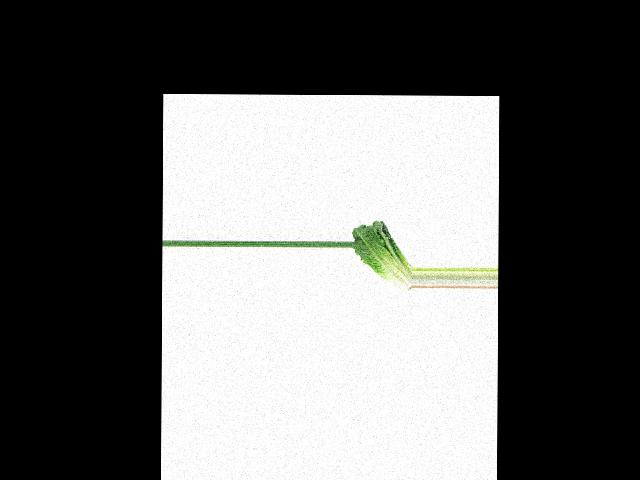lettuce: (352, 219, 412, 290)
